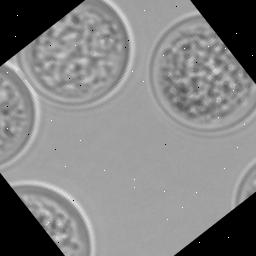picoshell: (147, 8, 256, 132), (16, 0, 135, 107), (9, 178, 96, 256), (0, 59, 40, 168), (232, 157, 256, 206)
